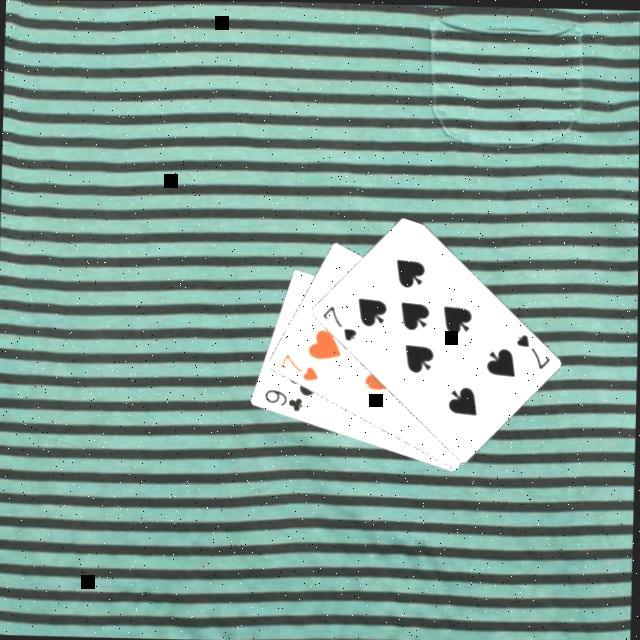7H: (274, 347, 322, 382)
7S: (316, 300, 359, 342), (510, 328, 553, 370)
9C: (260, 384, 306, 413)
